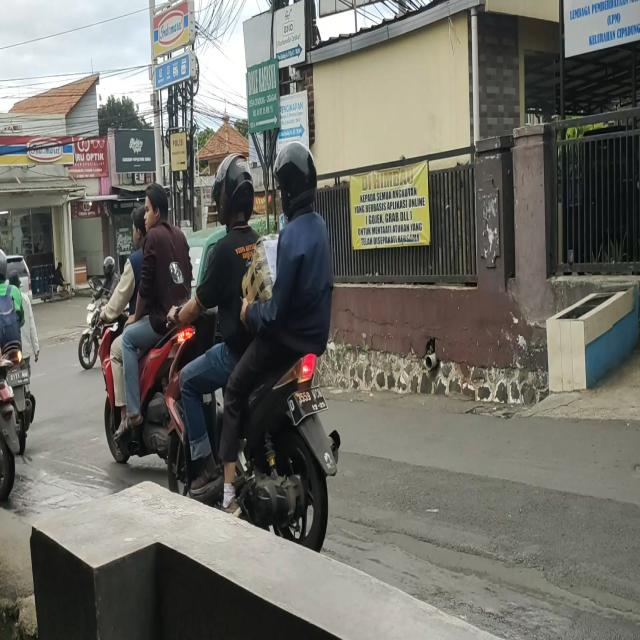helmet: (274, 138, 316, 217), (216, 153, 256, 223), (0, 244, 8, 284), (106, 255, 116, 280)
no-helmet: (143, 188, 168, 233), (130, 205, 151, 248)
